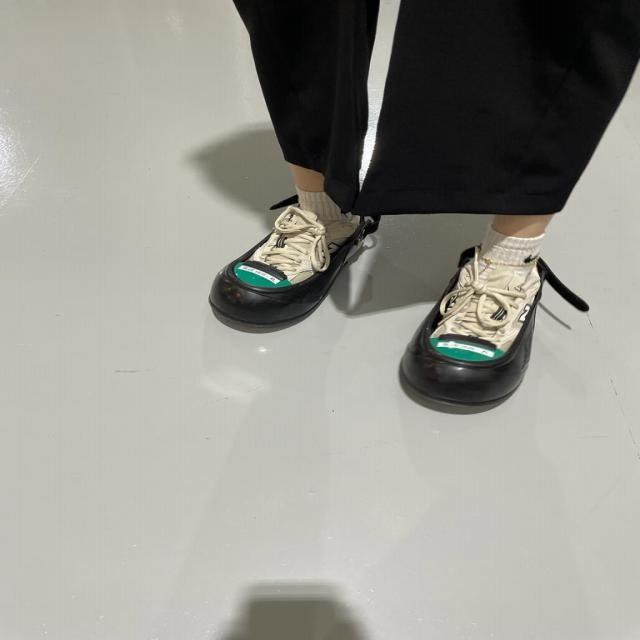shoes: (389, 242, 559, 416), (198, 192, 386, 343)
